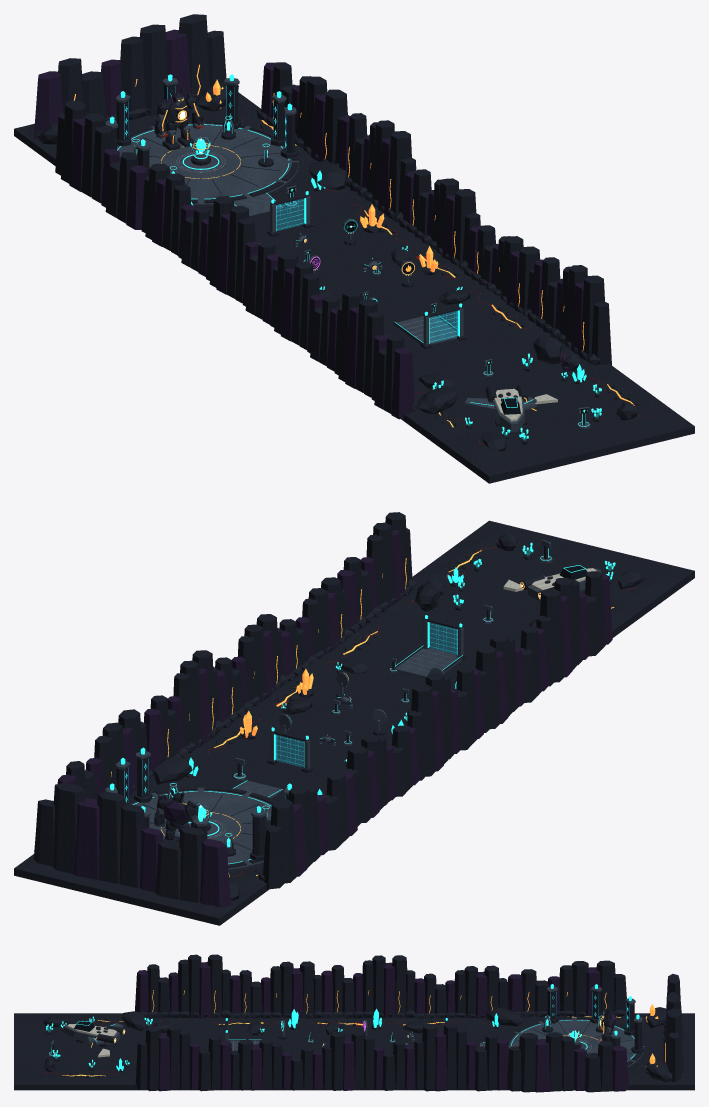
File: AlienPlanet_FullLayout.fbx
3 views of the same model, one above another, from view 1: azimuth 30°, elevation 25°; view 2: azimuth 150°, elevation 25°; view 3: azimuth 270°, elevation 25° (orthographic). The views are drawn at different scales.
Parts seen in each view (by area): view 1: VolcanicGround_24m_Placed, CanyonWall_12m_Placed.010, VolcanicGround_24m_Placed.001, VolcanicGround_24m_Placed.002, ArenaPlatform_Placed, CanyonWall_12m_Placed.008, CanyonWall_12m_Placed, CanyonWall_12m_Placed.004, CanyonWall_12m_Placed.002, CanyonWall_12m_Placed.007, CanyonWall_12m_Placed.001, CanyonWall_12m_Placed.006 (+11 smaller); view 2: VolcanicGround_24m_Placed, CanyonWall_12m_Placed.010, VolcanicGround_24m_Placed.001, VolcanicGround_24m_Placed.002, CanyonWall_12m_Placed.008, CanyonWall_12m_Placed, CanyonWall_12m_Placed.002, CanyonWall_12m_Placed.007, CanyonWall_12m_Placed.004, CanyonWall_12m_Placed.001, CanyonWall_12m_Placed.006, VolcanicGround_24m_Placed.003 (+12 smaller); view 3: VolcanicGround_24m_Placed, CanyonWall_12m_Placed.009, CanyonWall_12m_Placed.007, CanyonWall_12m_Placed.004, CanyonWall_12m_Placed, CanyonWall_12m_Placed.008, CanyonWall_12m_Placed.002, CanyonWall_12m_Placed.006, CanyonWall_12m_Placed.001, CanyonWall_12m_Placed.005, CanyonWall_12m_Placed.003, VolcanicGround_24m_Placed.001 (+14 smaller).
Boxes of the visible parts, x1,y1,x2,y2 form: VolcanicGround_24m_Placed: (401, 343, 694, 483); CanyonWall_12m_Placed.010: (33, 14, 226, 140); VolcanicGround_24m_Placed.001: (319, 256, 561, 378); VolcanicGround_24m_Placed.002: (177, 172, 441, 285); ArenaPlatform_Placed: (117, 119, 301, 215); CanyonWall_12m_Placed.008: (55, 100, 148, 229); CanyonWall_12m_Placed: (334, 289, 417, 419); CanyonWall_12m_Placed.004: (528, 257, 611, 365); CanyonWall_12m_Placed.002: (206, 196, 279, 324); CanyonWall_12m_Placed.007: (339, 113, 416, 222); CanyonWall_12m_Placed.001: (270, 251, 339, 371); CanyonWall_12m_Placed.006: (399, 169, 480, 269); VolcanicGround_24m_Placed: (385, 520, 694, 643); CanyonWall_12m_Placed.010: (33, 782, 232, 907); VolcanicGround_24m_Placed.001: (266, 611, 520, 728); VolcanicGround_24m_Placed.002: (149, 698, 392, 801); CanyonWall_12m_Placed.008: (258, 772, 357, 889); CanyonWall_12m_Placed: (536, 571, 612, 686); CanyonWall_12m_Placed.002: (407, 666, 483, 780); CanyonWall_12m_Placed.007: (144, 650, 224, 774); CanyonWall_12m_Placed.004: (337, 512, 417, 632); CanyonWall_12m_Placed.001: (475, 626, 548, 732); CanyonWall_12m_Placed.006: (215, 614, 289, 727); VolcanicGround_24m_Placed.003: (14, 785, 268, 925); VolcanicGround_24m_Placed: (14, 1013, 184, 1090); CanyonWall_12m_Placed.009: (507, 1032, 629, 1092); CanyonWall_12m_Placed.007: (414, 1023, 508, 1091); CanyonWall_12m_Placed.004: (135, 1025, 231, 1091); CanyonWall_12m_Placed: (135, 954, 230, 1018); CanyonWall_12m_Placed.008: (507, 960, 626, 1017); CanyonWall_12m_Placed.002: (321, 955, 415, 1018); CanyonWall_12m_Placed.006: (322, 1031, 415, 1090); CanyonWall_12m_Placed.001: (229, 961, 321, 1018); CanyonWall_12m_Placed.005: (230, 1038, 323, 1090); CanyonWall_12m_Placed.003: (413, 965, 508, 1018); VolcanicGround_24m_Placed.001: (184, 1017, 354, 1090).
Size of the model in its own units: 2687 by 9600 by 982.
2 materials, 1 textured.
